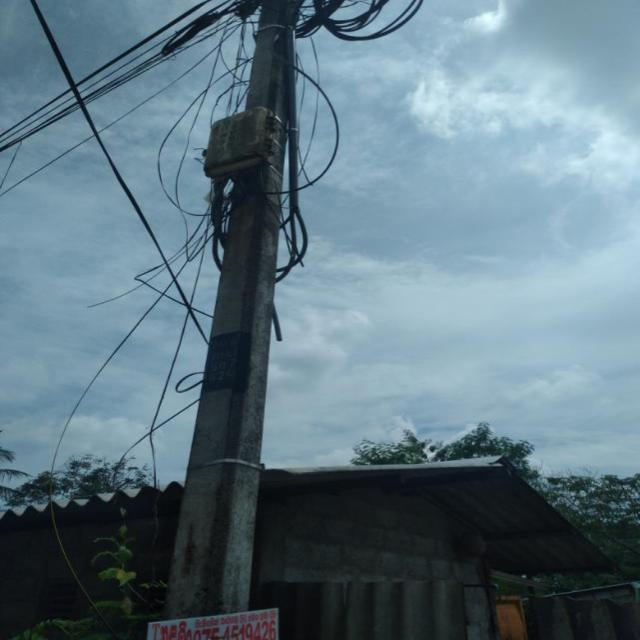light_pole: (160, 0, 313, 640)
